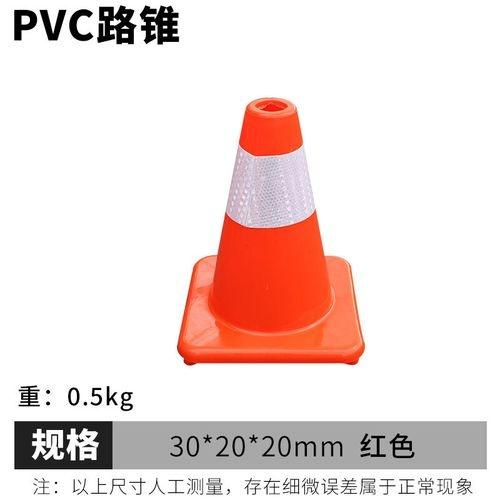cone_barrel: (190, 98, 355, 348)
